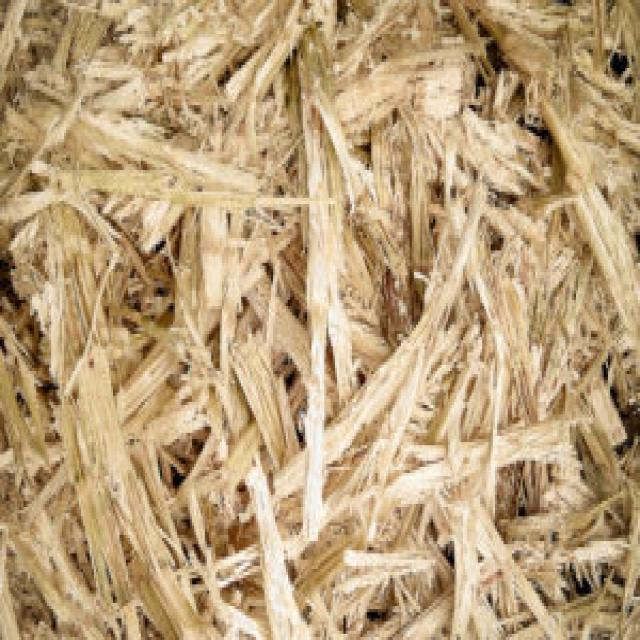dry_waste: (283, 4, 613, 615), (0, 0, 265, 612)
